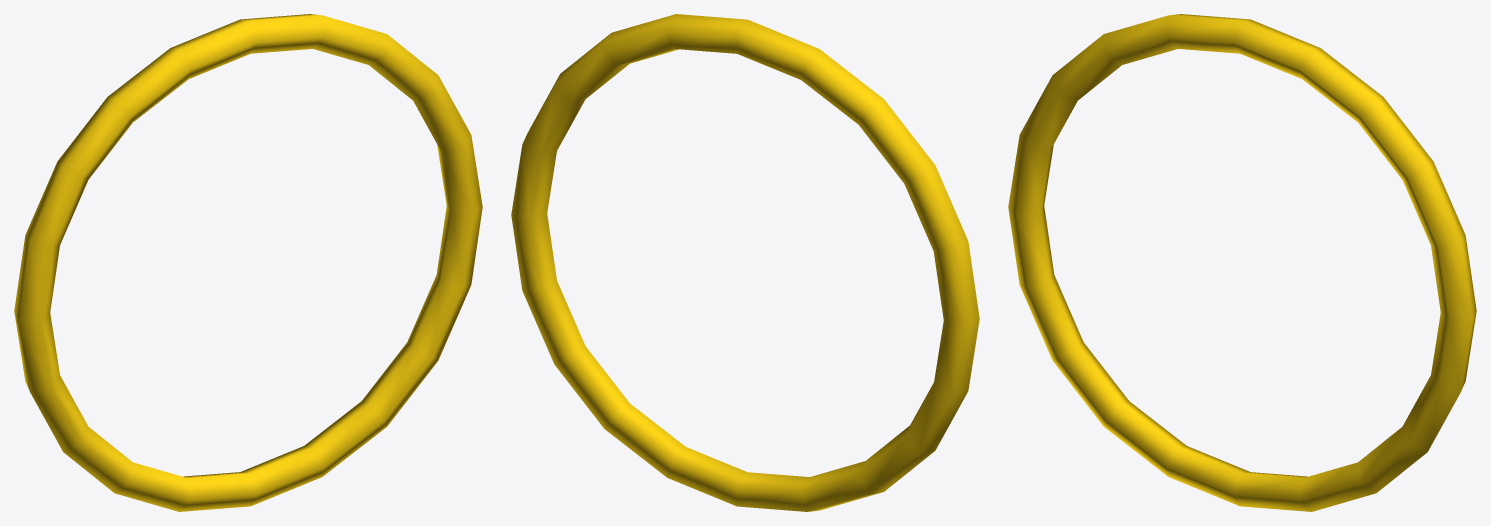
The model's file is cursor.obj.
3 renders of one model, left to right at view 1: azimuth 30°, elevation 25°; view 2: azimuth 150°, elevation 25°; view 3: azimuth 330°, elevation 25°, orthographic.
Visible parts, largest first — view 1: pTorus1; view 2: pTorus1; view 3: pTorus1.
Boxes of the visible parts, left/top/right/bottom form: pTorus1: left=14, top=14, right=482, bottom=511; pTorus1: left=511, top=14, right=979, bottom=511; pTorus1: left=1008, top=14, right=1476, bottom=511.
Size of the model in its own units: 197 by 197 by 12.68.
